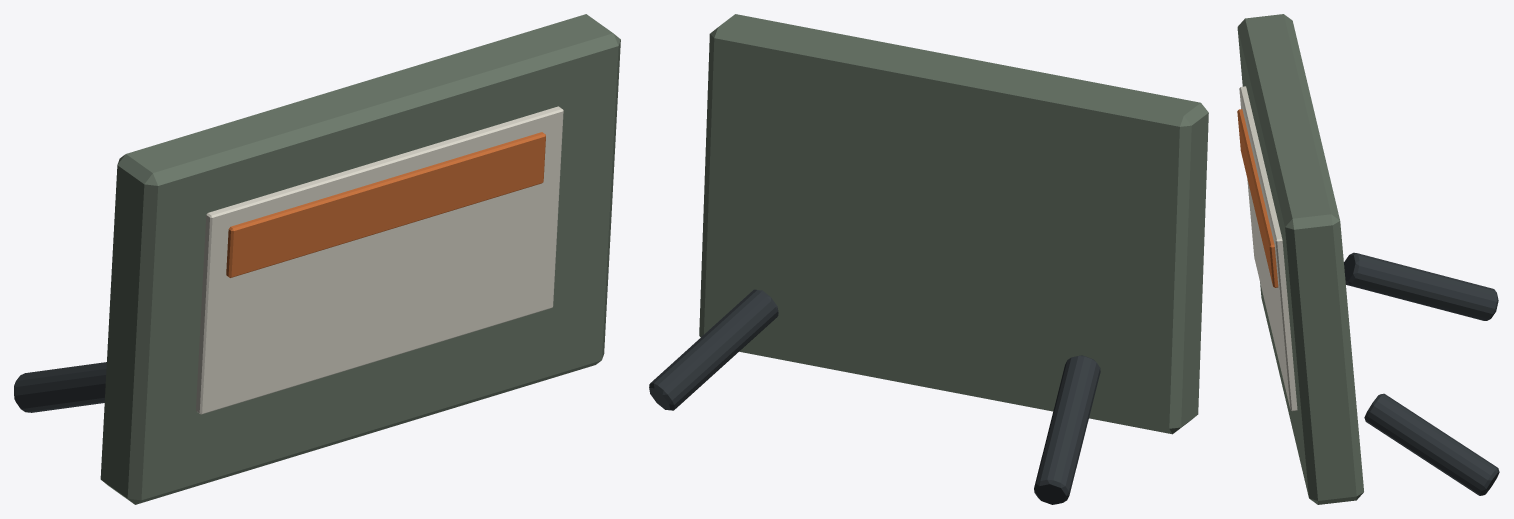
File: PRP_CITY_026_fallen_market_sign.glb
3 views of the same model, side by side, from view 1: azimuth 30°, elevation 25°; view 2: azimuth 150°, elevation 25°; view 3: azimuth 270°, elevation 25° (orthographic). The views are drawn at different scales.
Parts seen in each view (by area): view 1: PRP_CITY_026_fallen_market_sign_RenderMesh; view 2: PRP_CITY_026_fallen_market_sign_RenderMesh; view 3: PRP_CITY_026_fallen_market_sign_RenderMesh.
Boxes of the visible parts, box(x1,y1,x2,y2) form: PRP_CITY_026_fallen_market_sign_RenderMesh: box(14, 14, 620, 504); PRP_CITY_026_fallen_market_sign_RenderMesh: box(649, 14, 1208, 504); PRP_CITY_026_fallen_market_sign_RenderMesh: box(1237, 14, 1499, 504).
Bounding box in the file's own units: 1.25 × 0.8182 × 0.6599.
